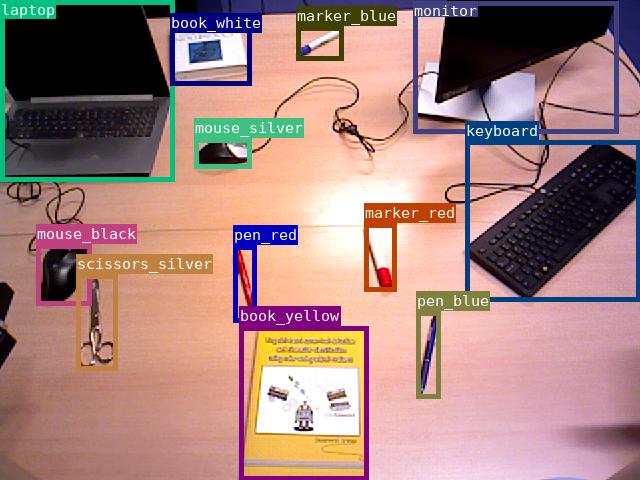book_white: (170, 13, 251, 85)
book_yellow: (239, 326, 368, 480)
keyboard: (465, 140, 640, 301)
laptop: (0, 0, 174, 181)
marker_blue: (296, 26, 343, 60)
marker_red: (364, 223, 396, 291)
monitor: (413, 1, 618, 133)
mouse_black: (36, 244, 91, 305)
mouse_silver: (194, 138, 251, 168)
pen_blue: (416, 311, 440, 398)
pen_red: (233, 245, 256, 322)
scissors_silver: (76, 274, 117, 370)
